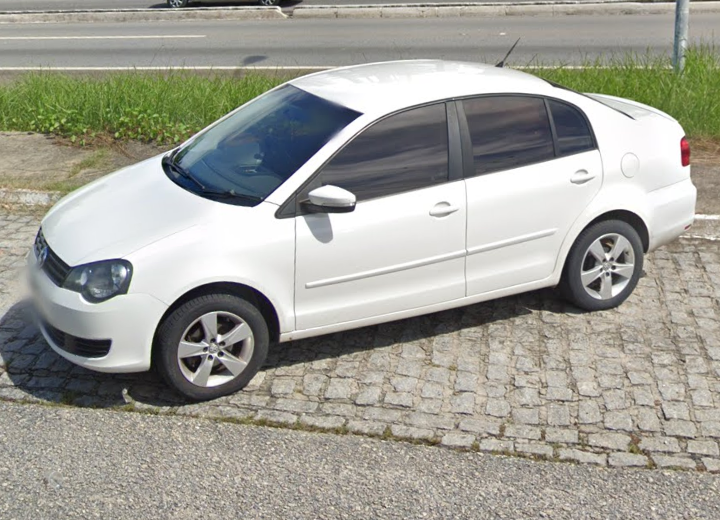car: (23, 34, 701, 405)
